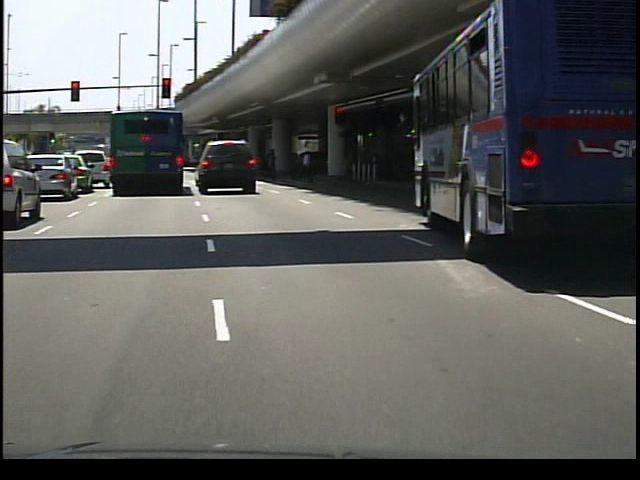person: (264, 143, 286, 183), (297, 148, 317, 185)
